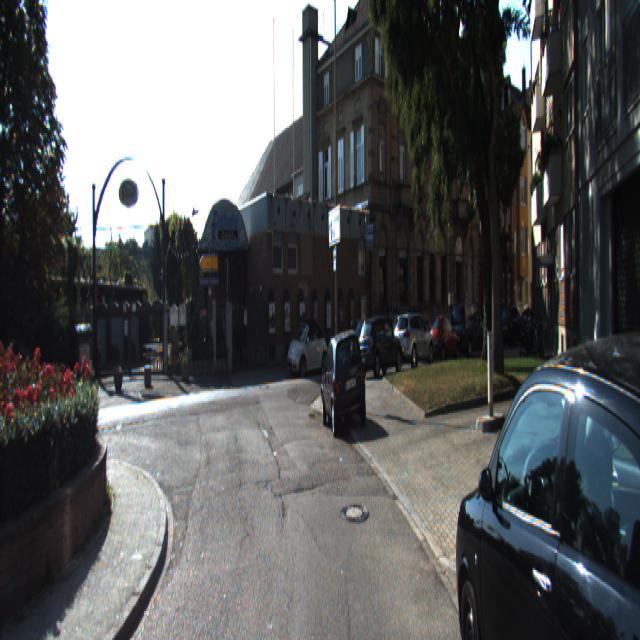Car: (450, 323, 639, 638), (320, 325, 367, 431), (357, 309, 404, 379), (286, 315, 328, 376), (393, 307, 433, 367), (451, 296, 486, 354), (430, 310, 460, 359)
